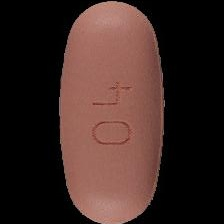65862-054: (0, 0, 224, 224)
